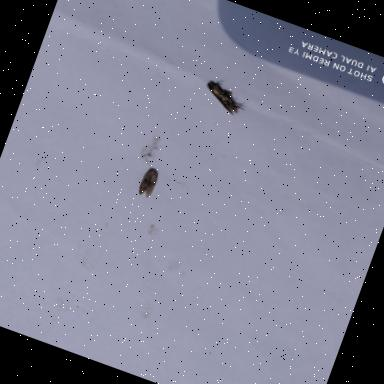pbw: (195, 73, 255, 122), (132, 162, 164, 203)
